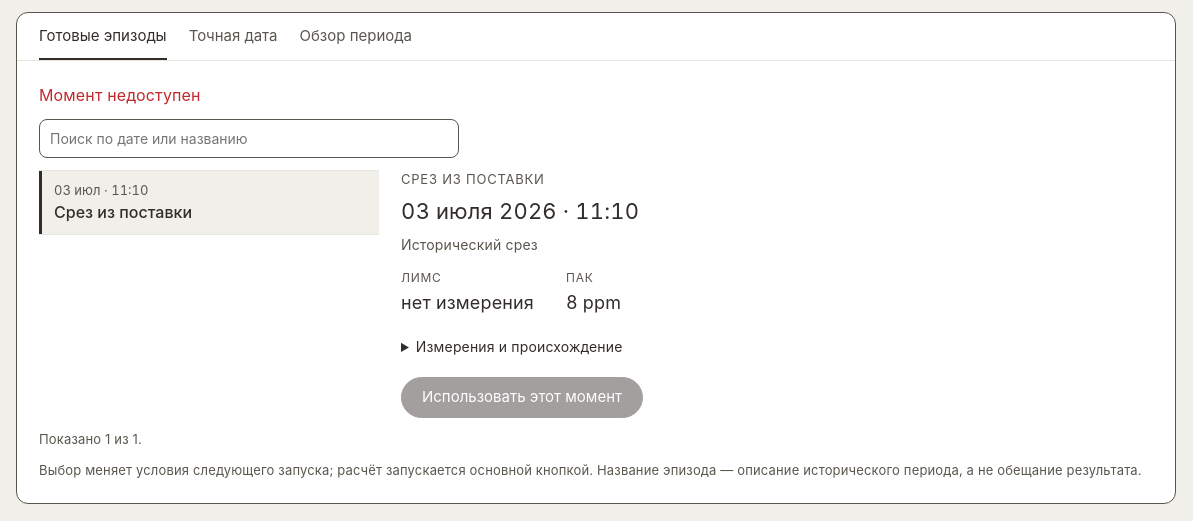
Test: готовые эпизоды › ошибка видна, запуск во время расчёта заблокирован, без task/ доступны только эпизоды
Expected: the message reads "Момент недоступен", [39,84,201,104]
Expected: the button "Использовать этот момент" is disabled, [401,377,643,418]
Click the tab "Точная дата": x=233, y=36 [189,13,277,60]
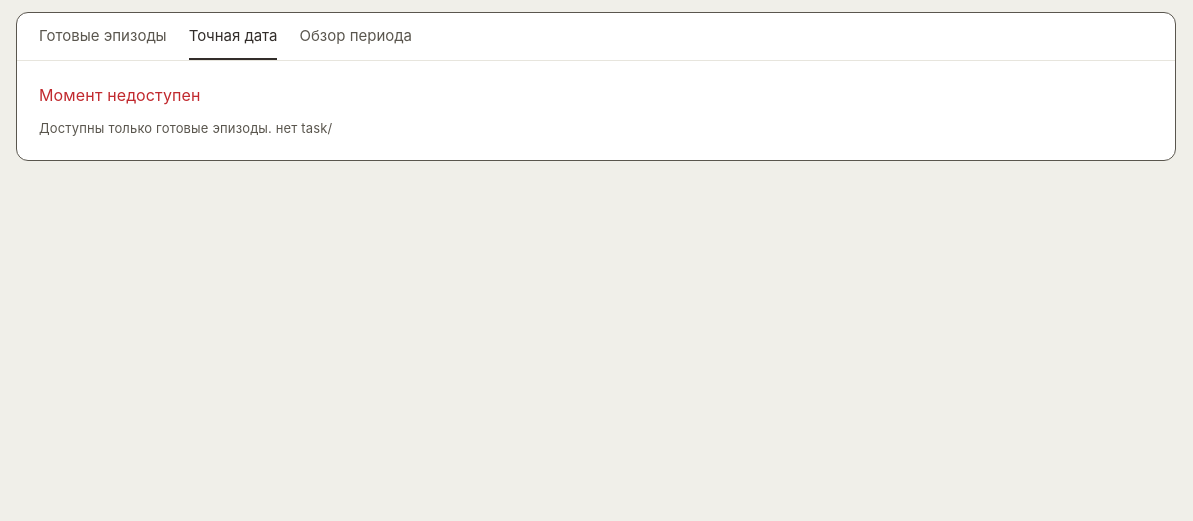
Expected: the text "Доступны только готовые эпизоды. нет task/" is shown, [39,120,332,136]
